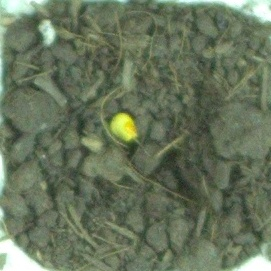pepper seed: (38, 39, 178, 184)
